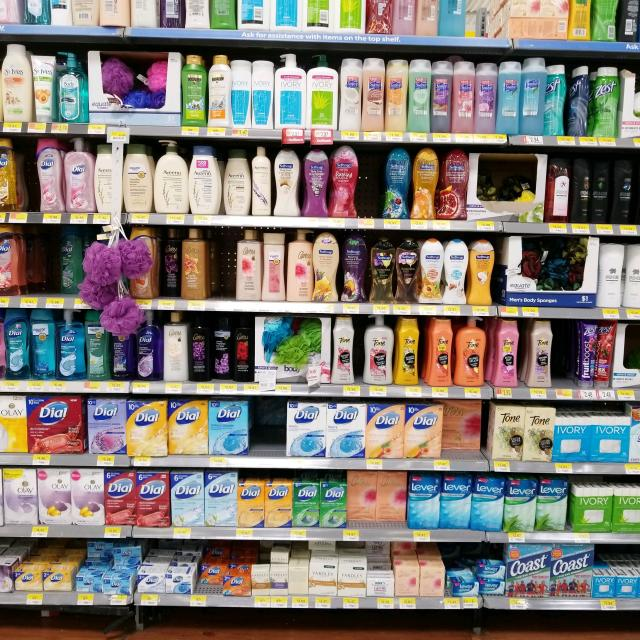unorganised: (331, 314, 395, 387), (575, 159, 638, 224), (546, 61, 591, 139), (347, 471, 406, 528), (83, 397, 127, 456), (443, 401, 485, 457), (56, 229, 88, 296), (157, 227, 182, 299), (84, 539, 143, 565), (197, 563, 226, 588), (366, 543, 390, 562), (266, 548, 291, 566)
